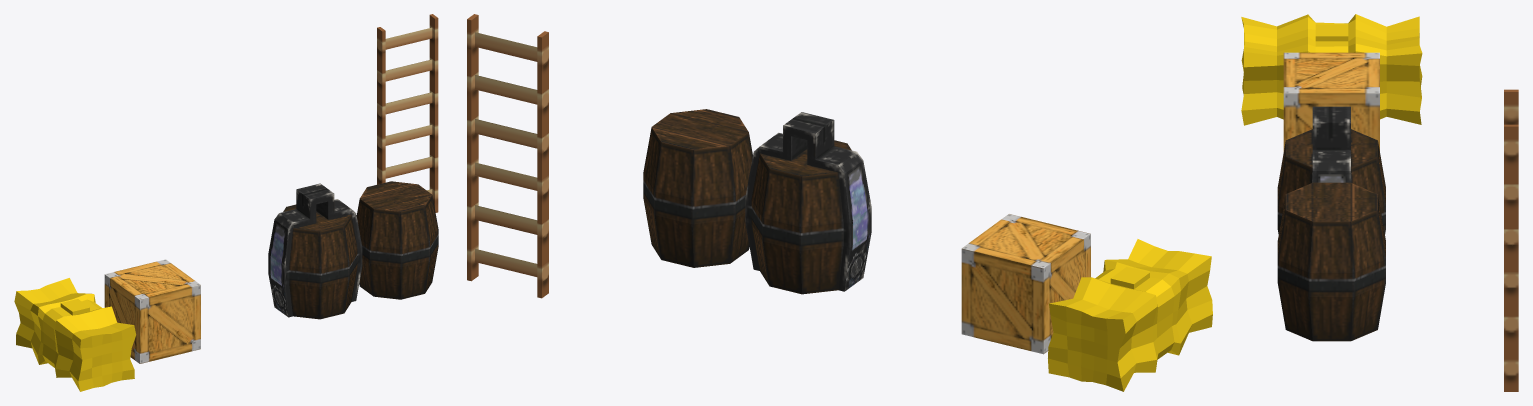
The model's file is PropsBasic_Meshes.fbx.
The picture shows the model from 3 angles, left to right: view 1: azimuth 30°, elevation 25°; view 2: azimuth 150°, elevation 25°; view 3: azimuth 270°, elevation 25°; orthographic projection. The views are drawn at different scales.
Parts seen in each view (by area): view 1: BarrelWithRing, Haybale, Barrel, Box, Ladder; view 2: BarrelWithRing, Haybale, Barrel, Box, Ladder; view 3: Barrel, Haybale, Box, BarrelWithRing, Ladder.
Boxes of the visible parts, x1,y1,x2,y2 form: BarrelWithRing: [268, 183, 362, 319]; Haybale: [14, 278, 136, 391]; Barrel: [356, 181, 438, 299]; Box: [104, 259, 200, 363]; Ladder: [377, 14, 438, 212]; BarrelWithRing: [745, 112, 871, 294]; Haybale: [1048, 239, 1212, 391]; Barrel: [643, 109, 752, 267]; Box: [961, 214, 1090, 354]; Ladder: [467, 14, 548, 298]; Barrel: [1277, 182, 1385, 341]; Haybale: [1241, 14, 1422, 125]; Box: [1283, 52, 1379, 151]; BarrelWithRing: [1277, 106, 1385, 234]; Ladder: [1504, 89, 1518, 391].
Size of the model in its own units: 490 by 202 by 190.
1 material, 1 textured.
